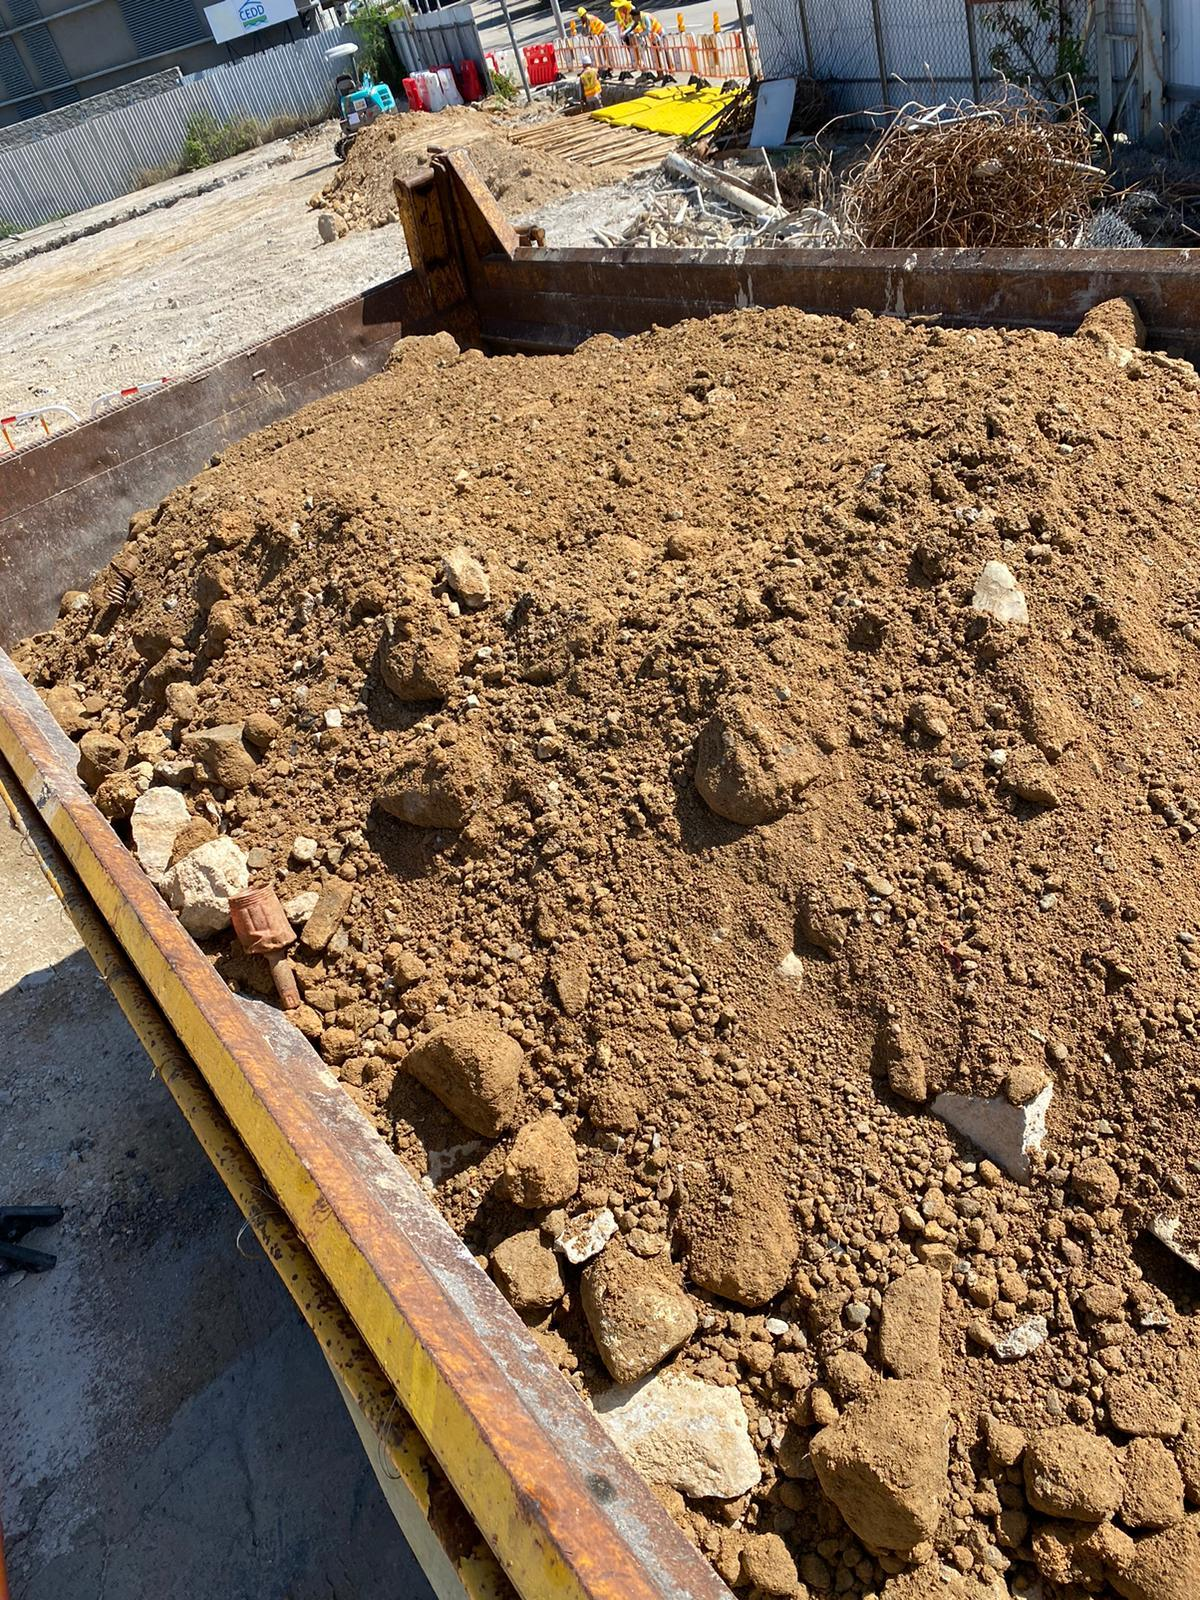dry: (13, 312, 1200, 1595)
